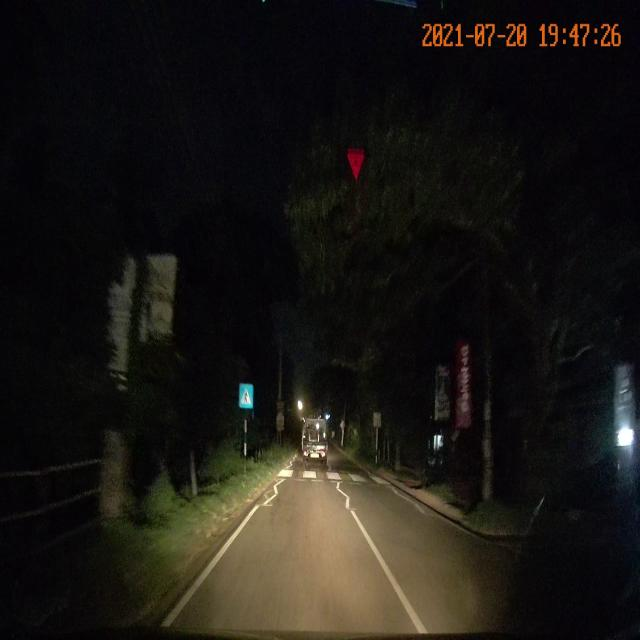Crosswalk: (275, 467, 394, 487)
